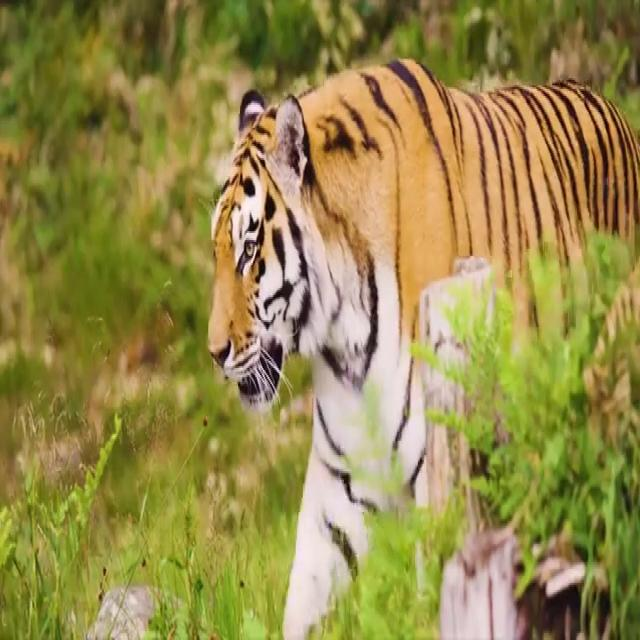tiger: (206, 53, 639, 640)
